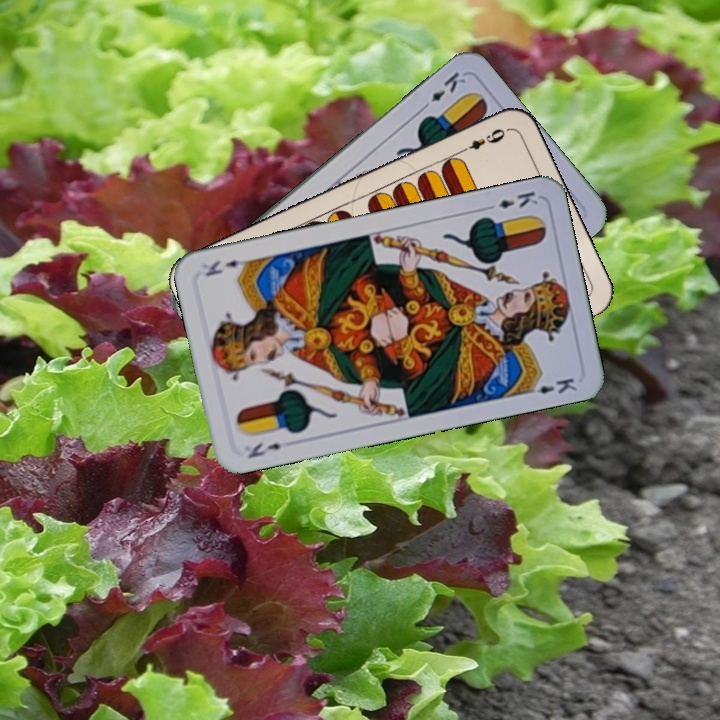E9: (455, 124, 510, 157)
EK: (417, 67, 469, 114), (481, 187, 541, 213), (244, 438, 284, 461)
